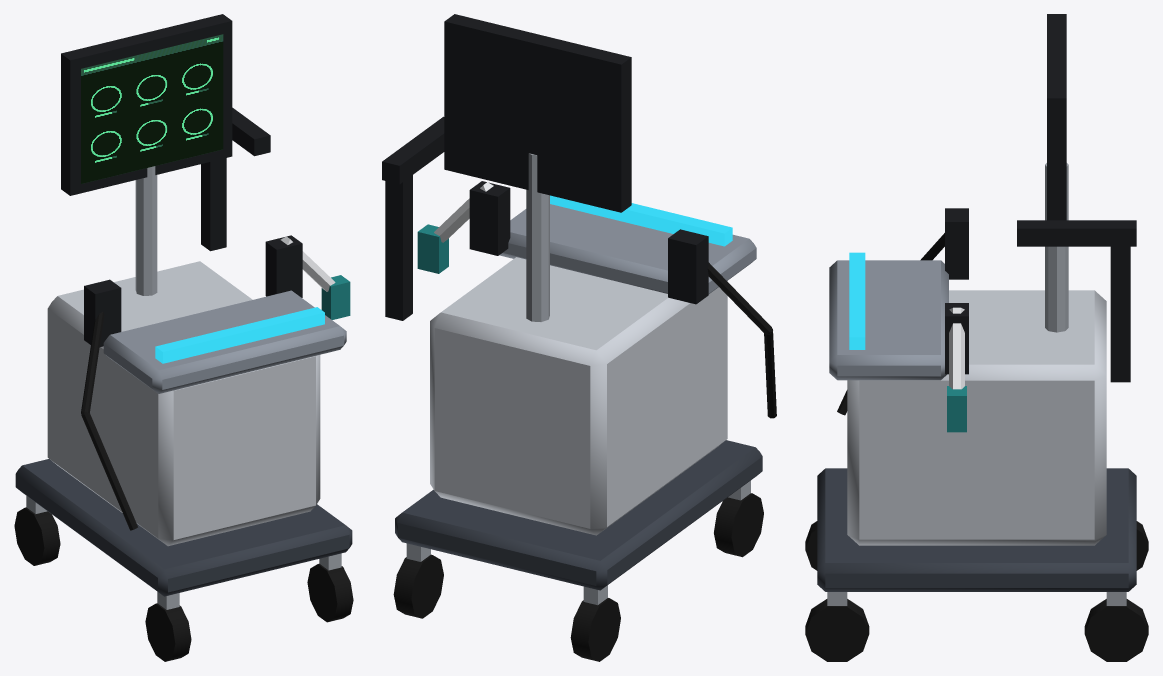
The model's file is medscanner_ultrasound_cart.glb.
3 renders of one model, left to right at view 1: azimuth 30°, elevation 25°; view 2: azimuth 150°, elevation 25°; view 3: azimuth 270°, elevation 25°, orthographic. The views are drawn at different scales.
Parts seen in each view (by area): view 1: medscanner_ultrasound_cart; view 2: medscanner_ultrasound_cart; view 3: medscanner_ultrasound_cart.
Part boxes in pixels (<box>): medscanner_ultrasound_cart: <box>14,14,353,661</box>; medscanner_ultrasound_cart: <box>382,14,776,661</box>; medscanner_ultrasound_cart: <box>805,14,1148,661</box>.
Size of the model in its own units: 0.902 by 1.55 by 0.86.
Materials: 10 (1 with a texture image).
